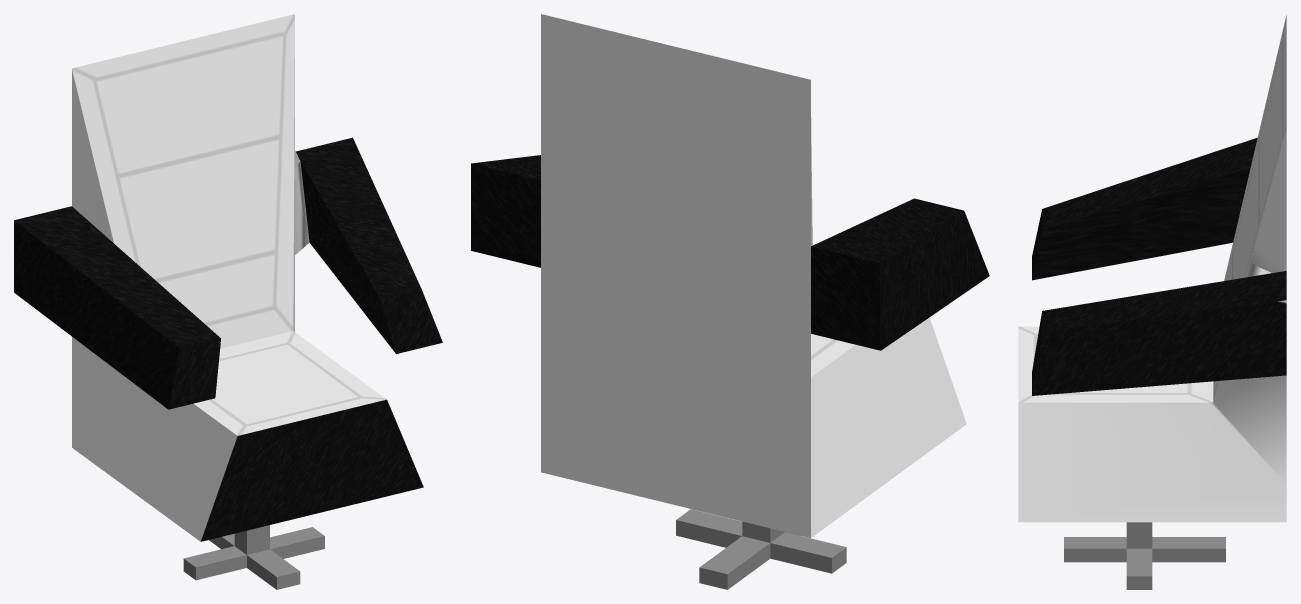
The model's file is officeChair.fbx.
3 renders of one model, left to right at view 1: azimuth 30°, elevation 25°; view 2: azimuth 150°, elevation 25°; view 3: azimuth 270°, elevation 25°, orthographic. The views are drawn at different scales.
Parts seen in each view (by area): view 1: officeChair; view 2: officeChair; view 3: officeChair.
Boxes of the visible parts, bbox=[...] form: officeChair: bbox=[14, 14, 442, 589]; officeChair: bbox=[471, 14, 989, 589]; officeChair: bbox=[1018, 15, 1286, 589].
Size of the model in its own units: 1.52 by 2 by 1.
